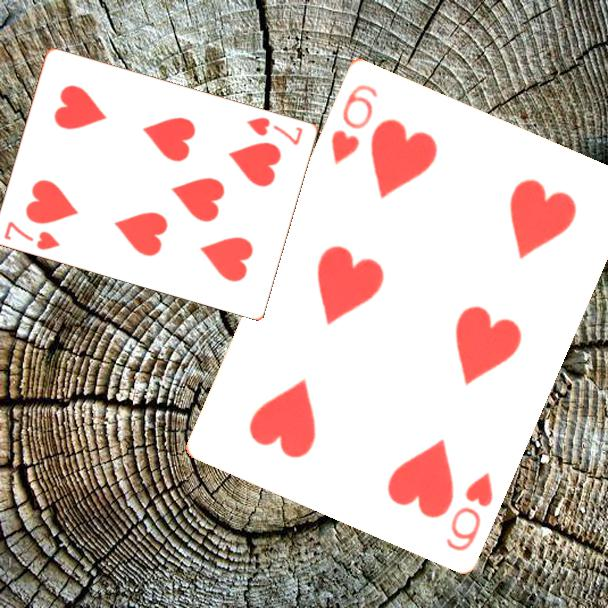h06: (441, 468, 496, 554), (327, 80, 381, 167)
h07: (1, 217, 63, 253), (243, 113, 306, 148)
